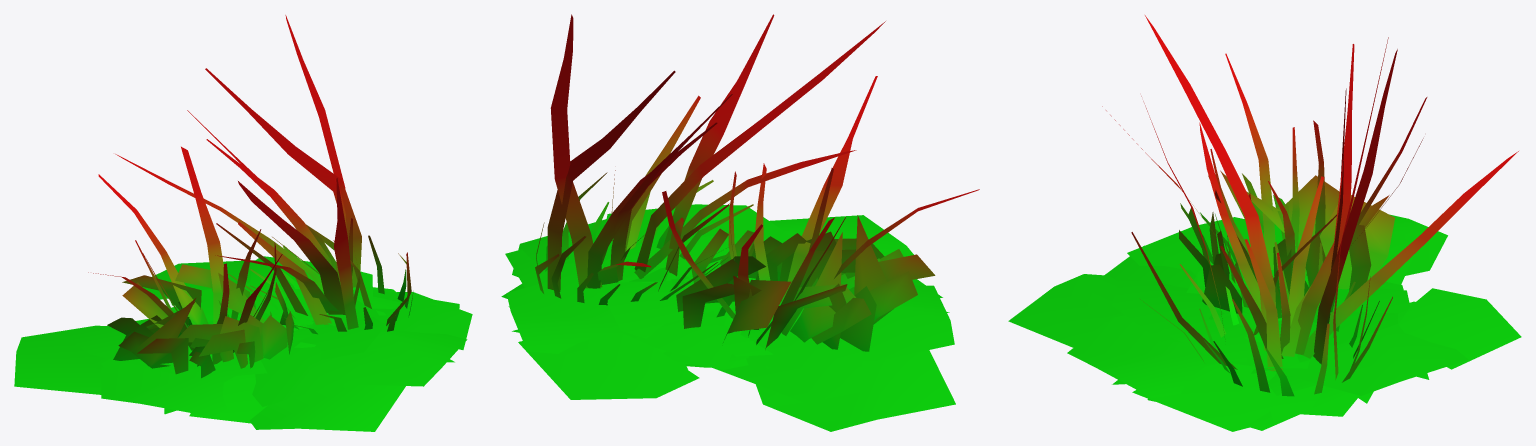
File: Wild Grass_LOD2_Var10_vczndjqja.fbx
3 renders of one model, left to right at view 1: azimuth 30°, elevation 25°; view 2: azimuth 150°, elevation 25°; view 3: azimuth 270°, elevation 25°, orthographic. The views are drawn at different scales.
Parts seen in each view (by area): view 1: _4pch_Var10_LOD2; view 2: _4pch_Var10_LOD2; view 3: _4pch_Var10_LOD2.
Part boxes in pixels (x1,y1,x2,y2): _4pch_Var10_LOD2: (14, 15, 472, 431); _4pch_Var10_LOD2: (501, 14, 979, 431); _4pch_Var10_LOD2: (1008, 15, 1521, 431).
Bounding box in the file's own units: 64.43 × 42.19 × 59.87.
